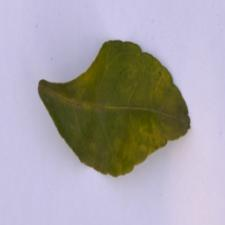Greening: (49, 44, 191, 158)
